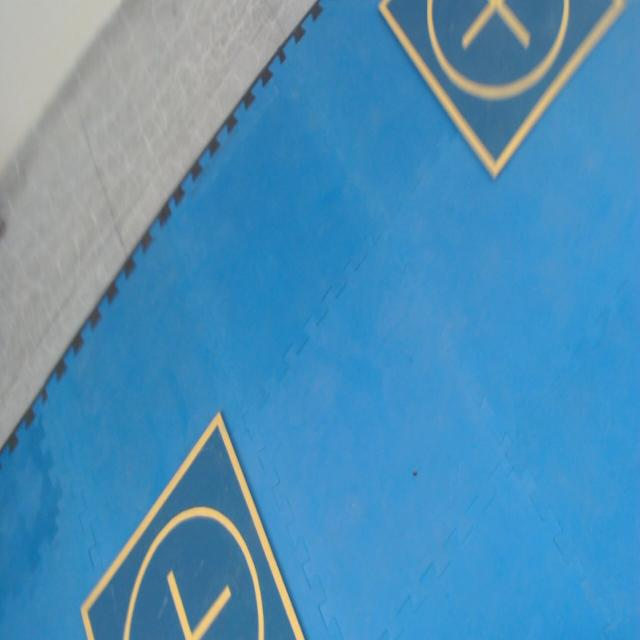base_pouso: (81, 411, 306, 639), (376, 0, 633, 183)
